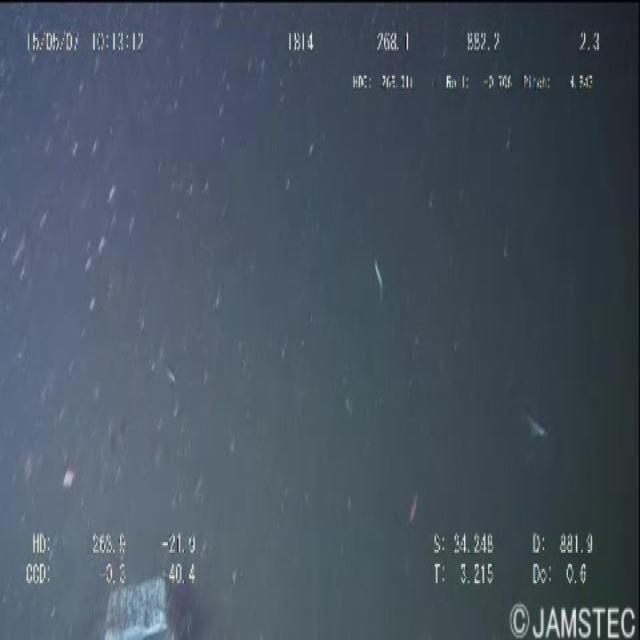Cutlery: (93, 555, 194, 640)
